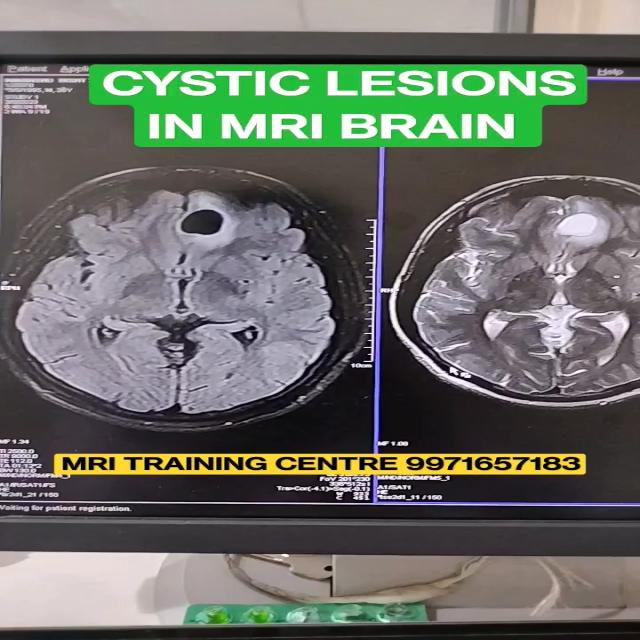tumor: (170, 210, 259, 252), (546, 219, 631, 256)
